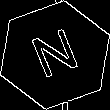N_S: (26, 24, 84, 86)
